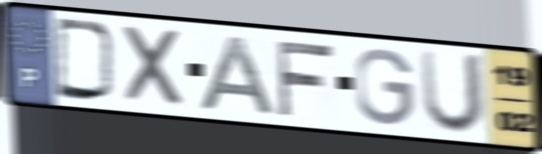A: (196, 33, 281, 119)
D: (53, 15, 120, 105)
F: (271, 37, 337, 118)
G: (353, 46, 417, 128)
U: (416, 46, 487, 138)
X: (120, 22, 190, 111)
